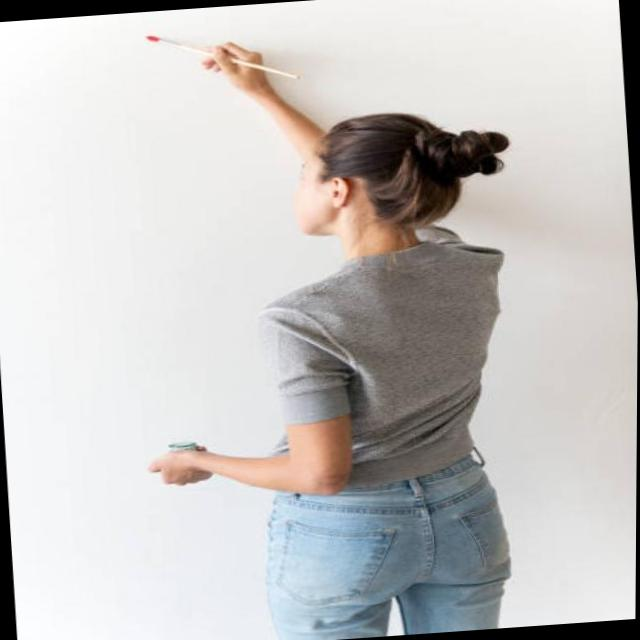no helmet: (261, 80, 518, 266)
